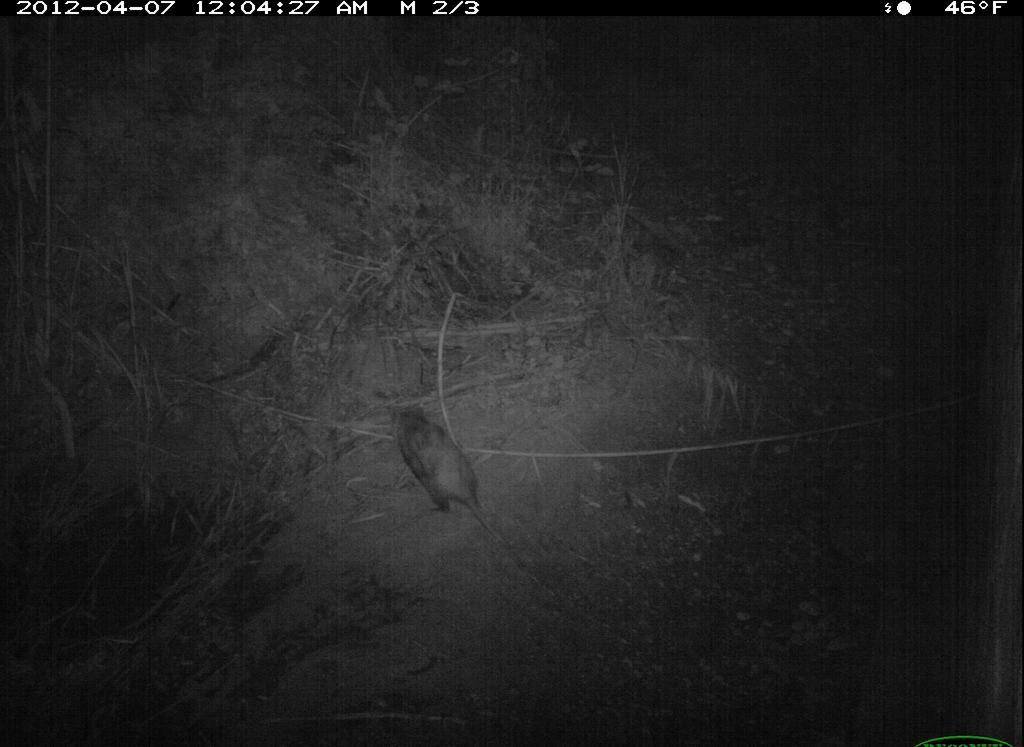opossum: (358, 383, 538, 571)
